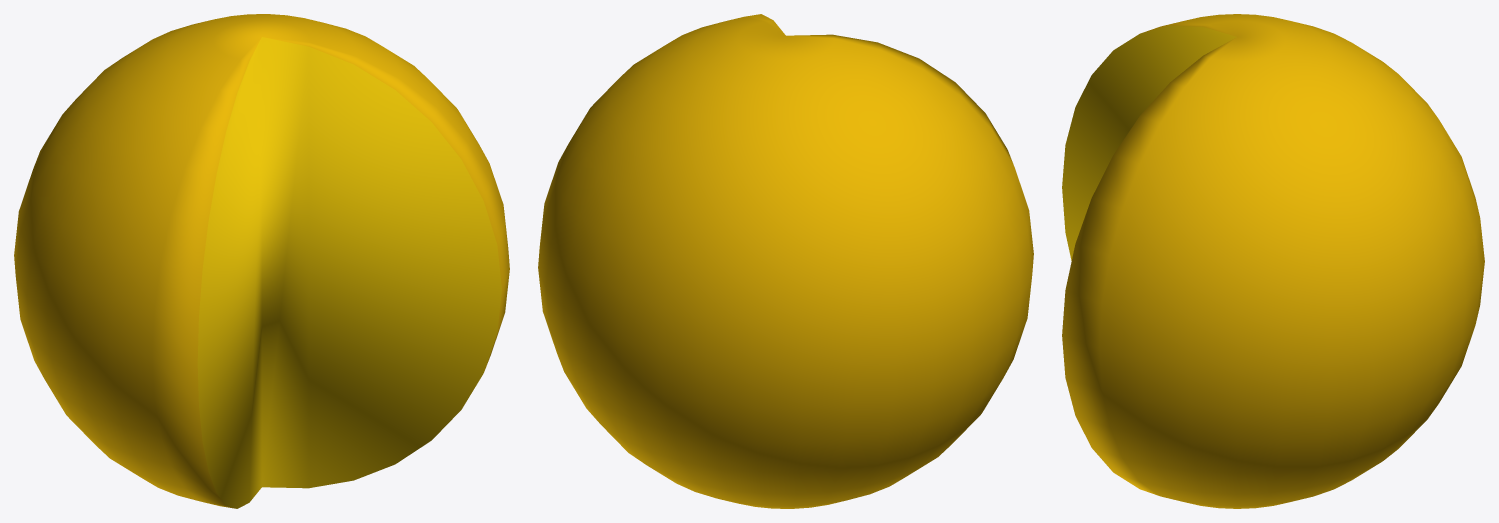
Rendered from InnerEarth.fbx.
3 renders of one model, left to right at view 1: azimuth 30°, elevation 25°; view 2: azimuth 150°, elevation 25°; view 3: azimuth 270°, elevation 25°, orthographic.
Parts seen in each view (by area): view 1: Sphere; view 2: Sphere; view 3: Sphere.
Part boxes in pixels (bbox=[...]): Sphere: bbox=[14, 14, 509, 508]; Sphere: bbox=[538, 14, 1033, 508]; Sphere: bbox=[1062, 14, 1484, 508].
Bounding box in the file's own units: 200 × 200 × 171.
